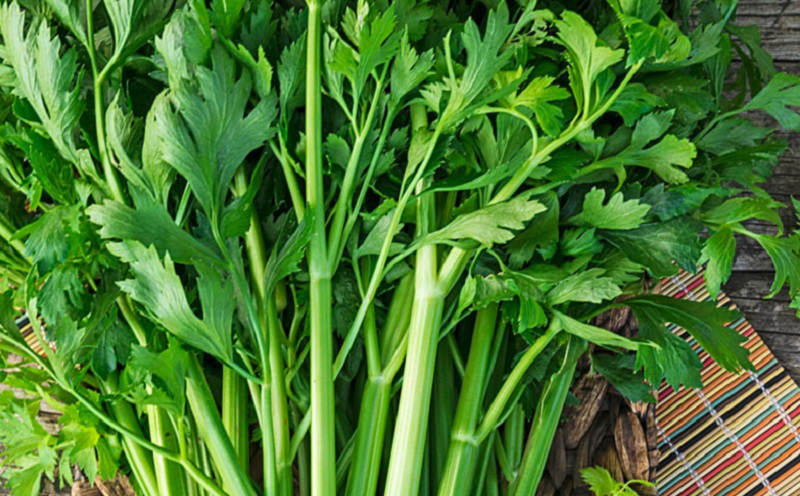Seledri: (113, 38, 615, 473)
